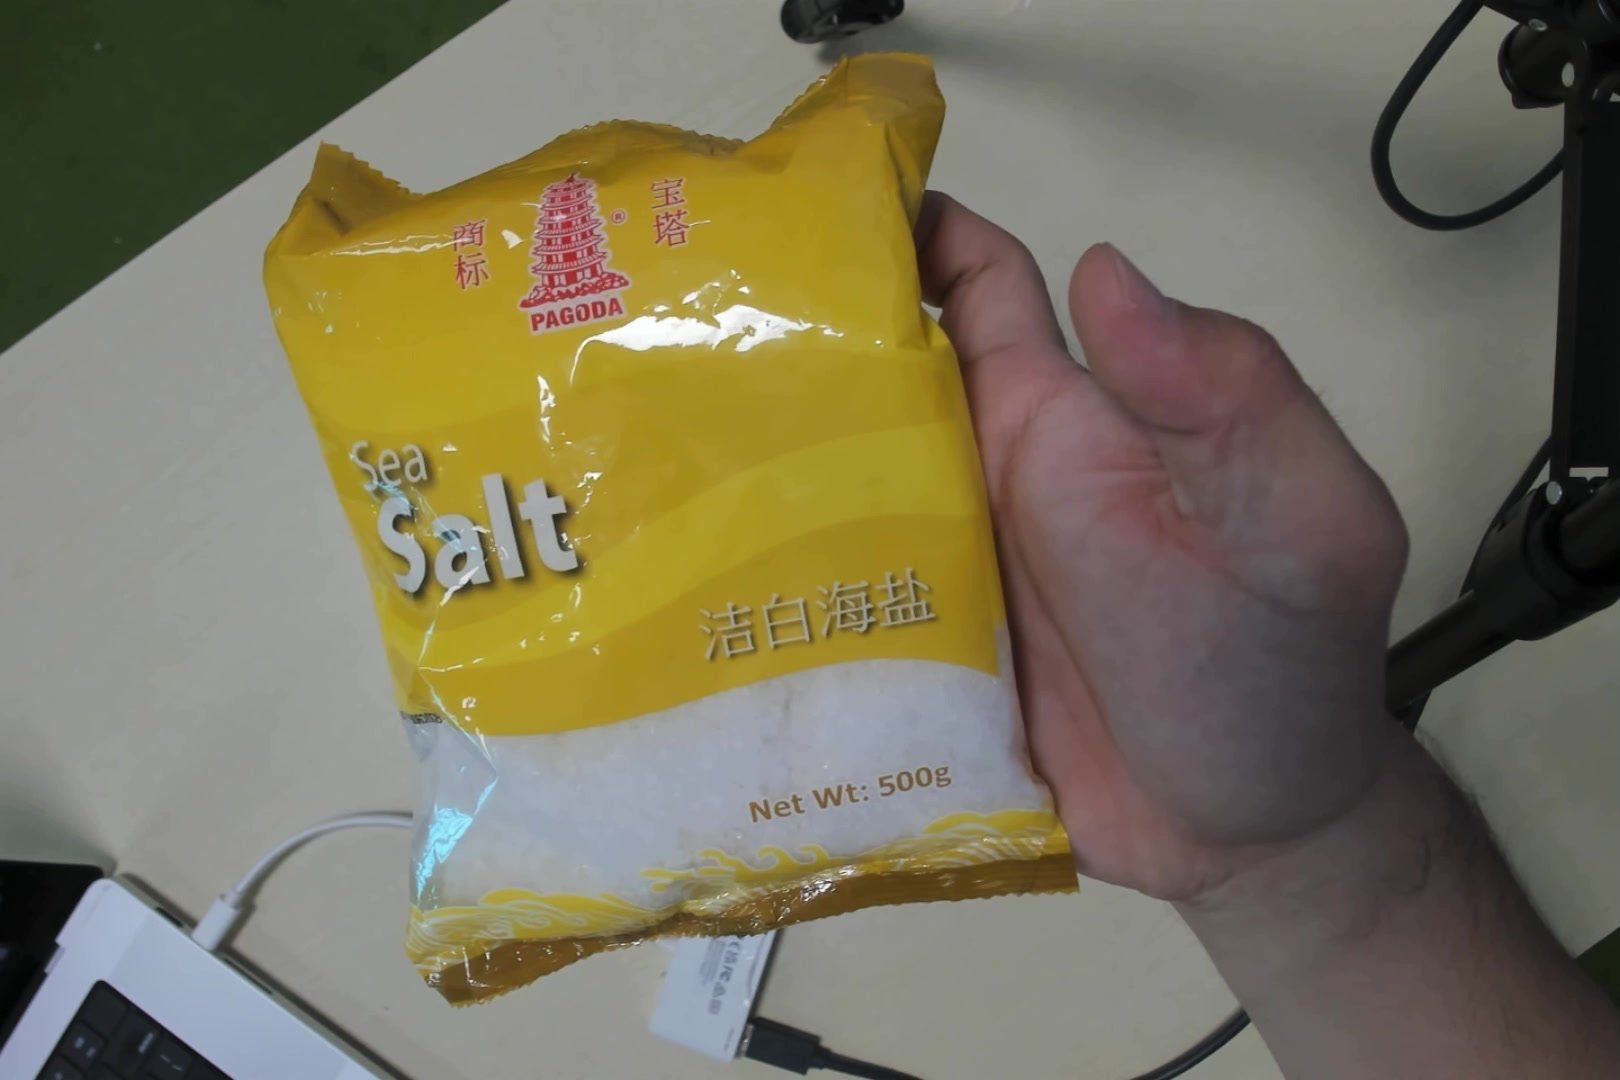Salt_500-599g_Halal_NonHealthy: (370, 129, 963, 912)
